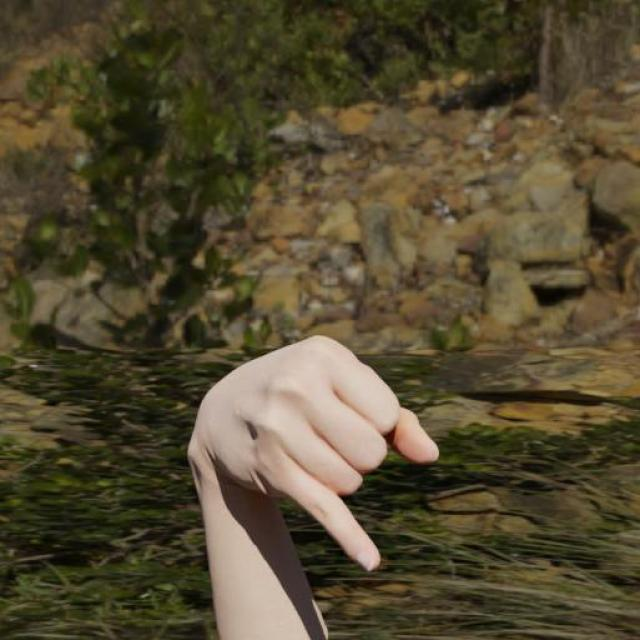J: (180, 330, 443, 576)
